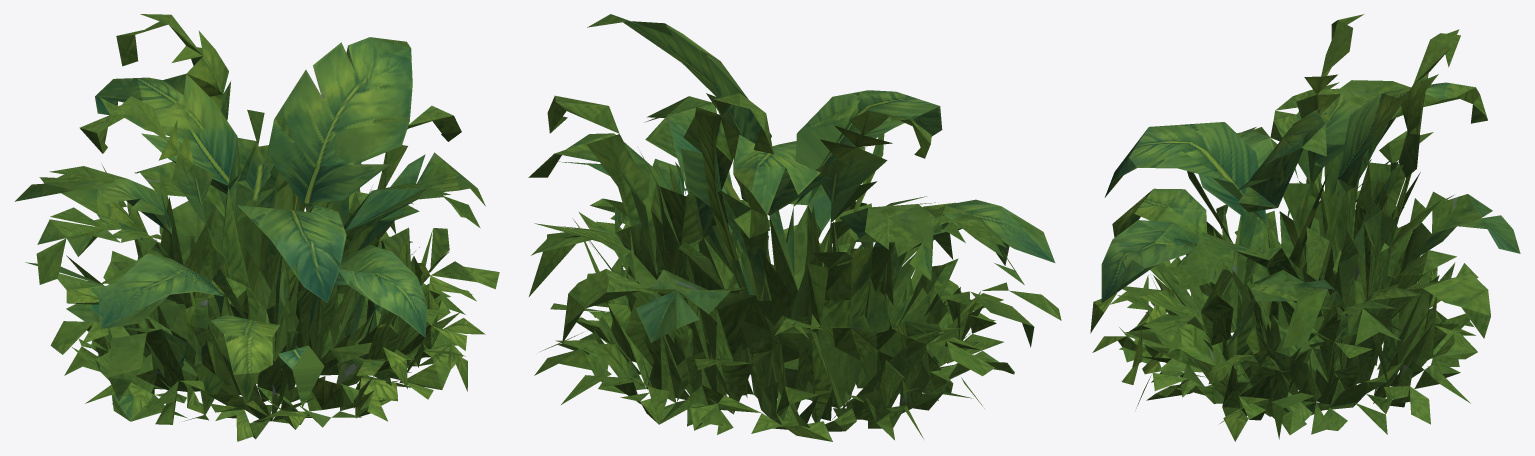
Rendered from bush_broadleaf.glb.
3 renders of one model, left to right at view 1: azimuth 30°, elevation 25°; view 2: azimuth 150°, elevation 25°; view 3: azimuth 270°, elevation 25°, orthographic. The views are drawn at different scales.
Bounding box in the file's own units: 1.89 × 1.24 × 1.6.
Materials: 1 (1 with a texture image).
